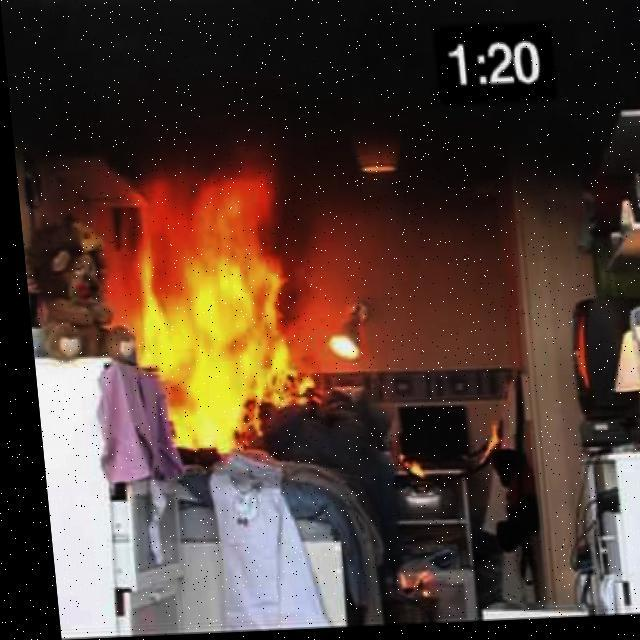Fire: (118, 156, 317, 458)
